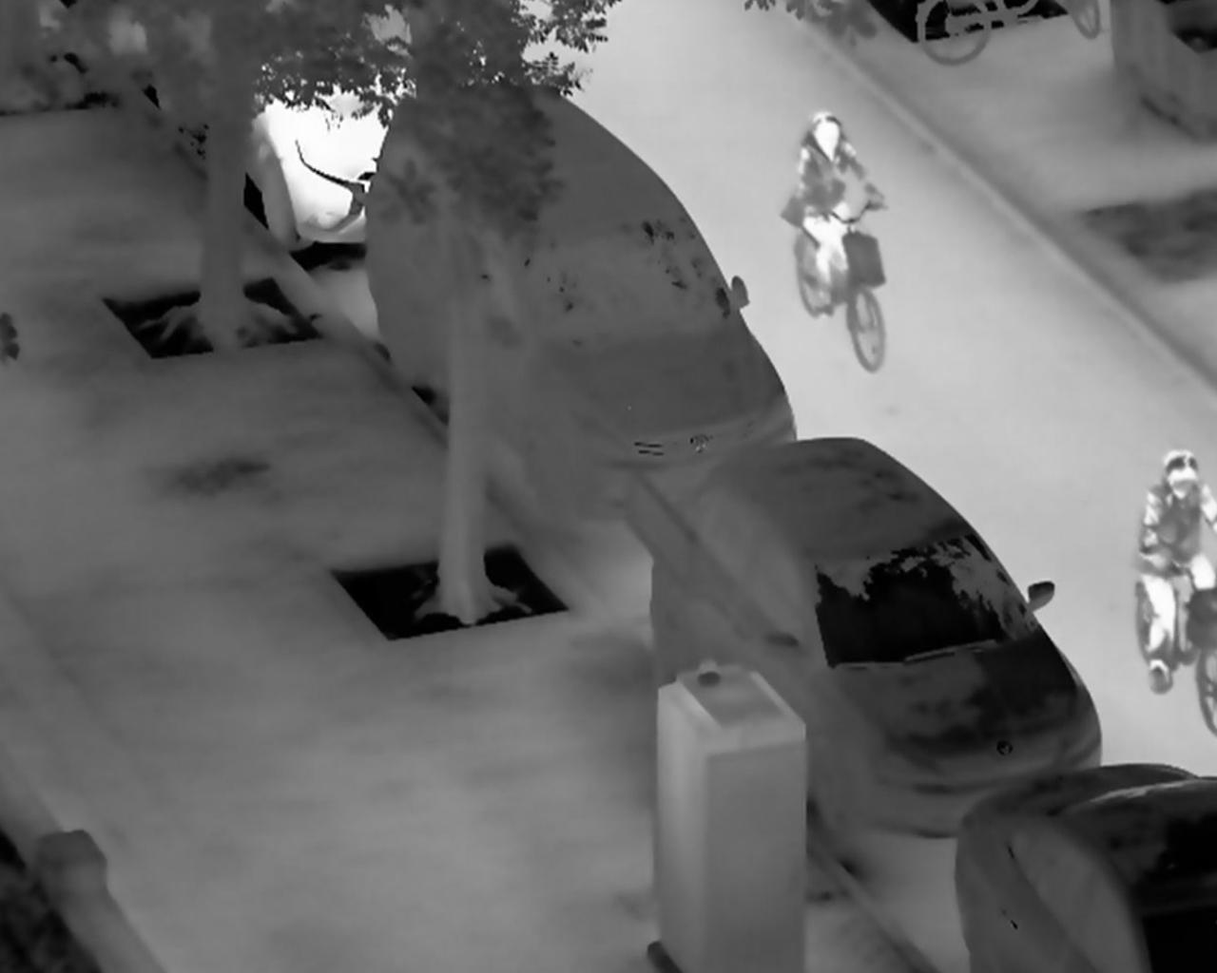person: (778, 108, 889, 315), (1133, 446, 1217, 694)
